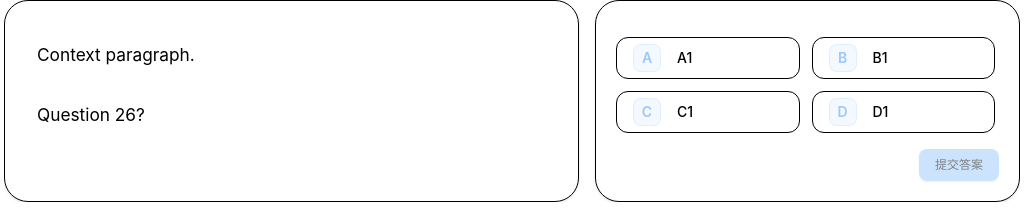
Scenario: ReviewFocusWork › submits through choice API and shows the next-question action after feedback
Expected: the text "Context paragraph." is shown, [37, 44, 195, 65]
Click the button "A A1". click: coordinates (708, 58)
box: [616, 37, 800, 79]
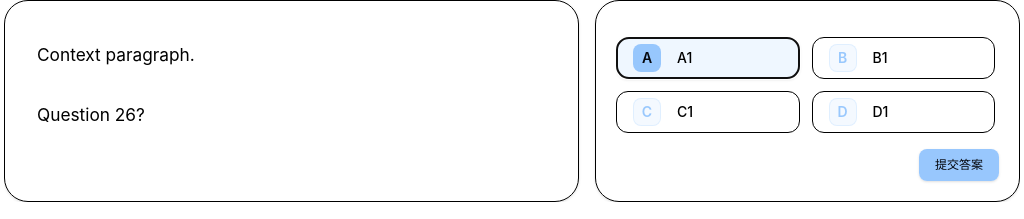
Click the button "提交答案". click: coordinates (959, 165)
box: [919, 149, 999, 181]
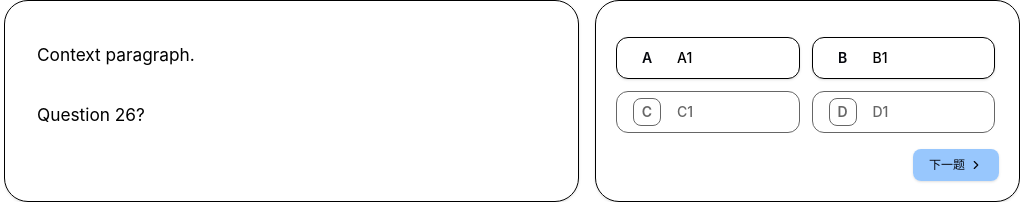
Expected: the button "下一题" is shown, [913, 149, 999, 181]
